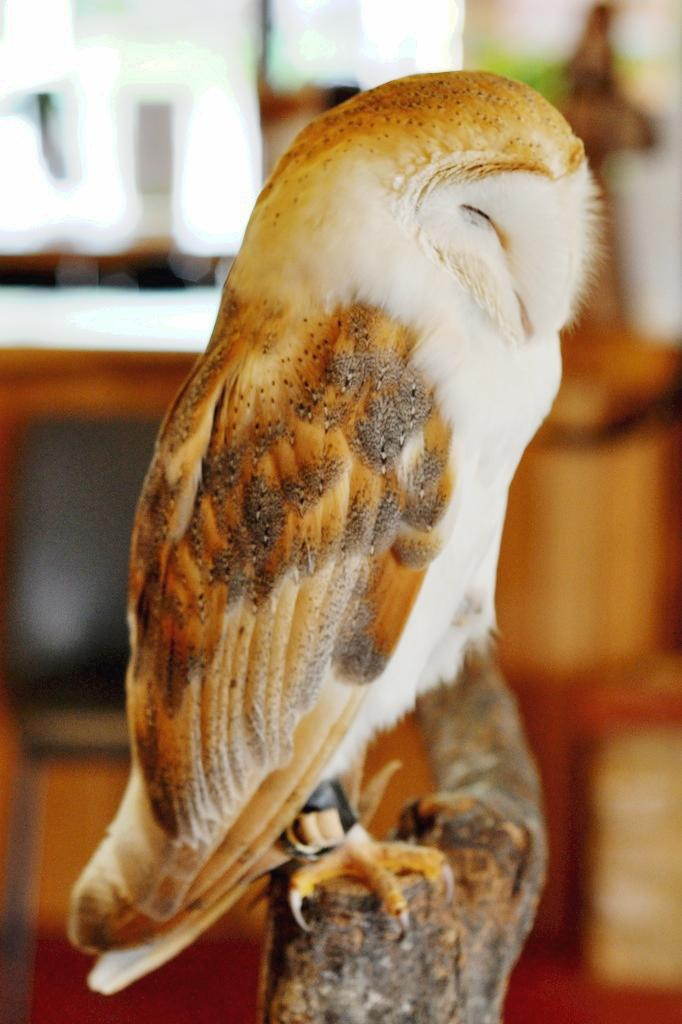Owl: (64, 67, 611, 1001)
